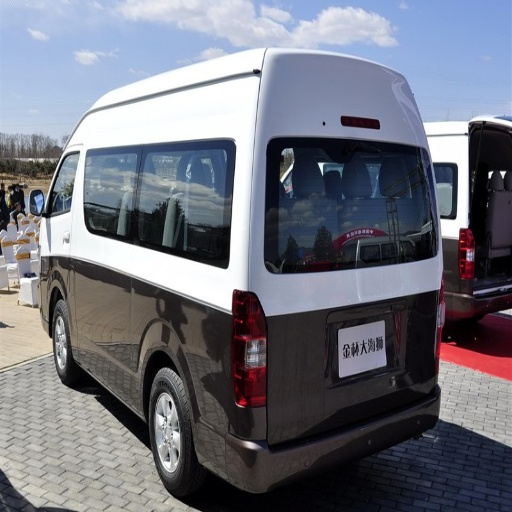back_bumper: (203, 407, 366, 493)
back_glass: (264, 141, 429, 272), (141, 150, 183, 219), (191, 161, 228, 236)
back_left_light: (230, 292, 266, 384)
trunk: (247, 264, 427, 433), (133, 280, 209, 371)
